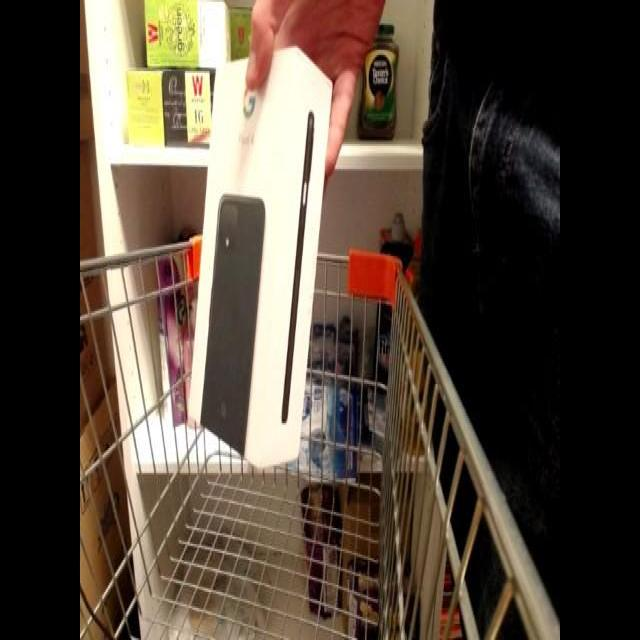Pixel 4: (170, 28, 353, 478)
